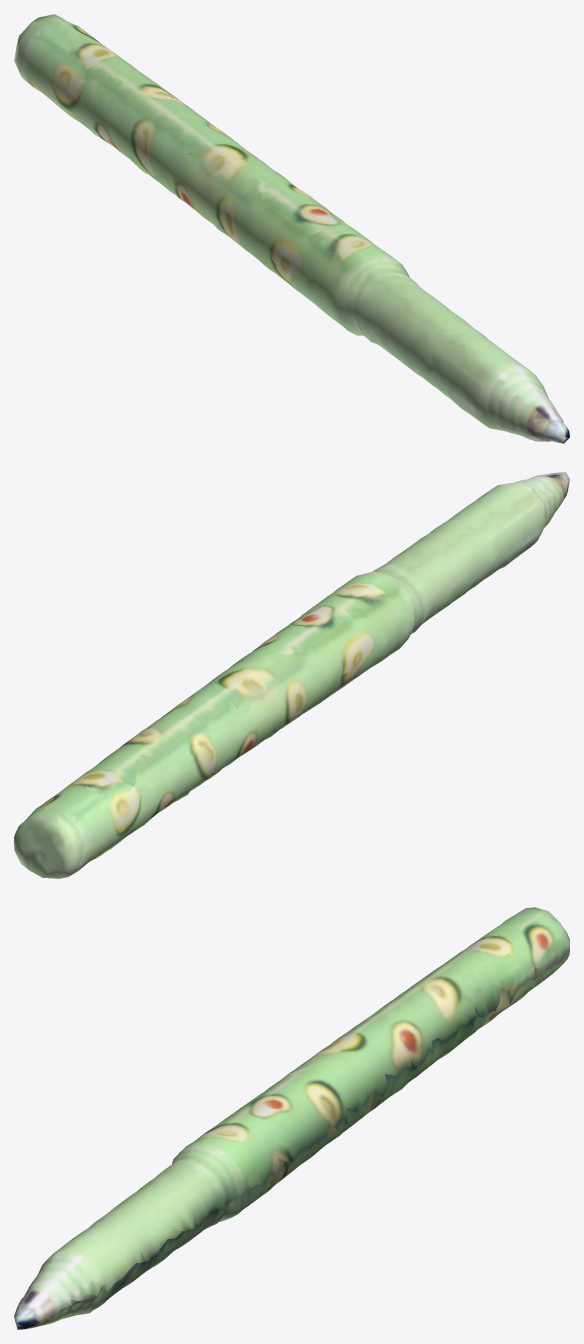
File: scan_align.obj
3 renders of one model, top to bottom at view 1: azimuth 30°, elevation 25°; view 2: azimuth 150°, elevation 25°; view 3: azimuth 330°, elevation 25°, orthographic.
Size of the model in its own units: 0.0109 by 0.011 by 0.1351.
Materials: 1 (1 with a texture image).
